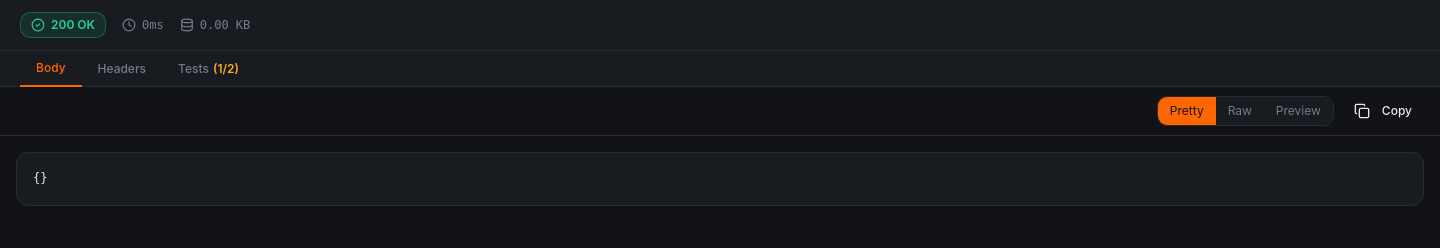
Test: ResponseViewer › shows pass/fail for test results
Click the tab "Tests (1/2)": (208, 68) 162,50 -> 255,86
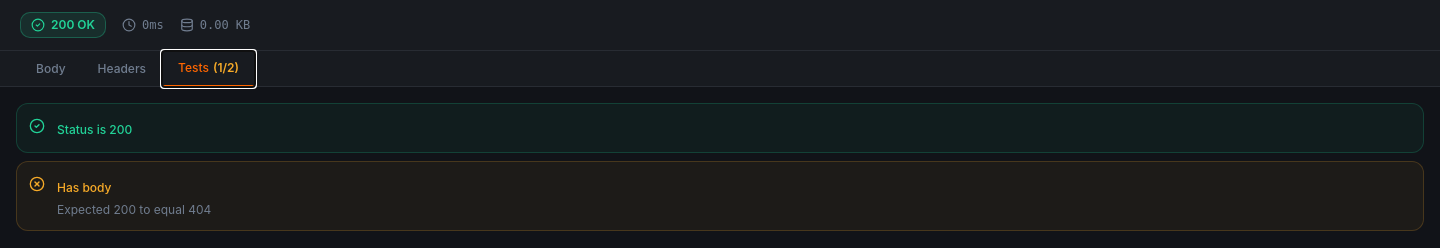
Now the text "Status is 200" is shown, box 57,122 -> 132,137
Now the text "Has body" is shown, box 57,180 -> 112,195
Now the text "Expected 200 to equal 404" is shown, box 57,202 -> 211,217
